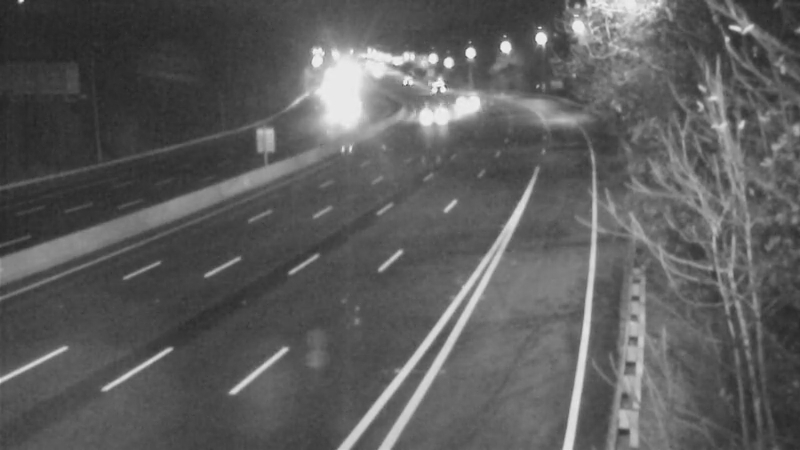vehicle: (408, 61, 458, 111), (436, 74, 486, 124), (409, 92, 459, 142)
